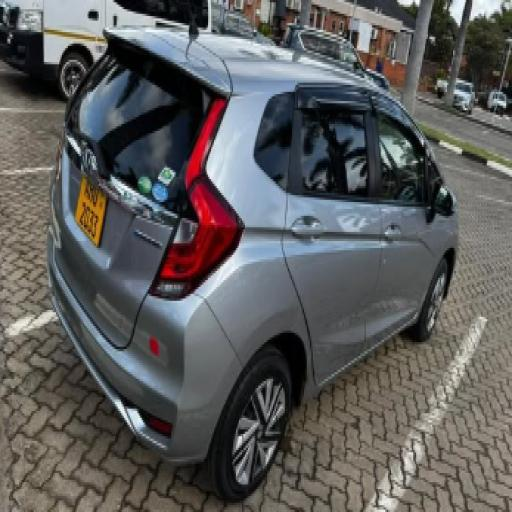number-plates: (80, 165, 100, 236)
